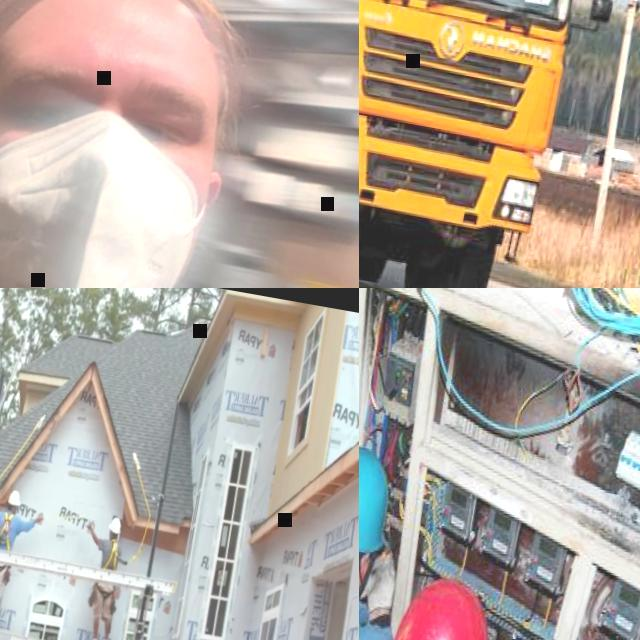helmet: (376, 570, 505, 640), (359, 439, 404, 558), (108, 516, 124, 535), (7, 488, 23, 506)
machinery: (359, 0, 640, 288)
mask: (0, 94, 219, 288)
no_helmet: (0, 0, 251, 78)
no_mask: (12, 508, 18, 514), (110, 533, 114, 540)
no_vest: (0, 510, 22, 551), (102, 538, 124, 568)
person: (0, 0, 359, 288), (66, 512, 132, 640), (0, 486, 50, 633)
